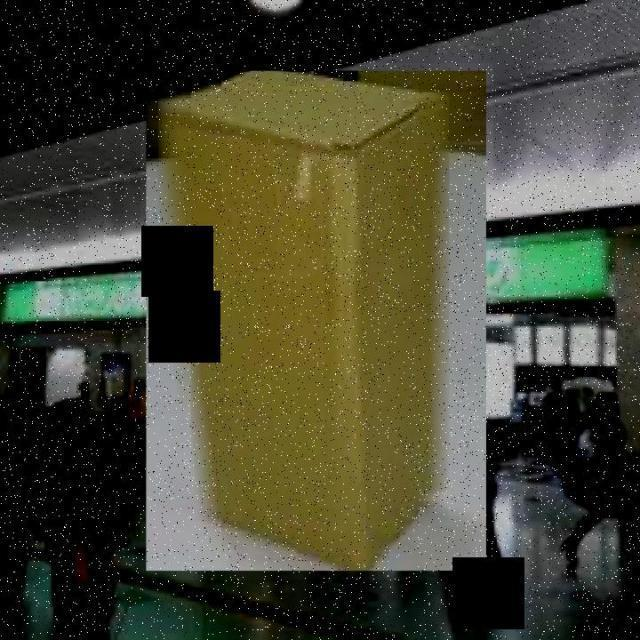box: (140, 63, 493, 580)
